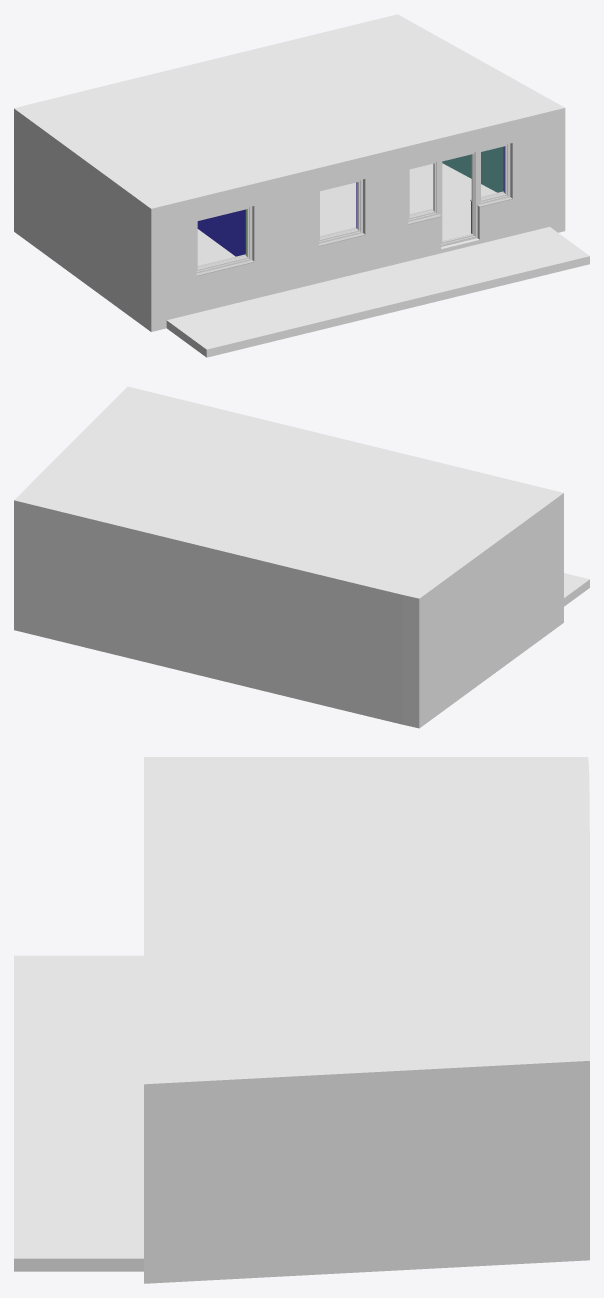
The model's file is Ablewicza 15.gltf.
3 renders of one model, top to bottom at view 1: azimuth 30°, elevation 25°; view 2: azimuth 150°, elevation 25°; view 3: azimuth 270°, elevation 25°, orthographic. The views are drawn at different scales.
Parts seen in each view (by area): view 1: Plane, Plane.003, Plane.002, Plane.030; view 2: Plane, Plane.001; view 3: Plane.
Part boxes in pixels (<box>): Plane: <box>14,14,589,357</box>; Plane.003: <box>196,143,510,273</box>; Plane.002: <box>319,179,362,243</box>; Plane.030: <box>196,191,512,276</box>; Plane: <box>14,386,589,728</box>; Plane.001: <box>170,570,211,665</box>; Plane: <box>14,757,589,1283</box>.
Bounding box in the file's own units: 10.73 × 3.05 × 7.98.
